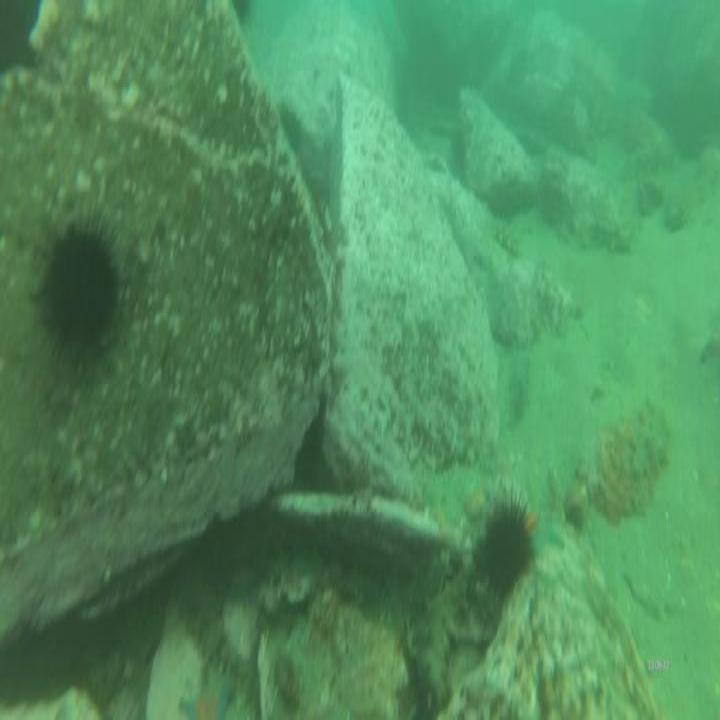echinus: (31, 215, 124, 379), (468, 474, 534, 604)
holothurian: (413, 564, 471, 702)
starfish: (180, 668, 235, 720)
